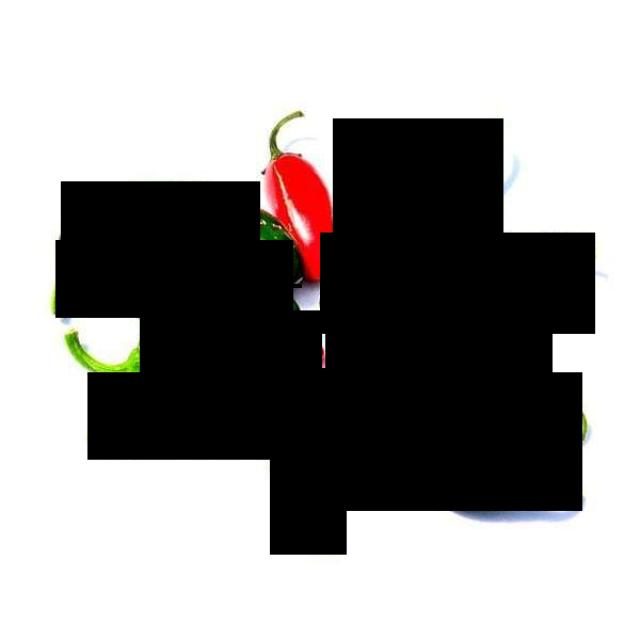Chili_Pepper: (333, 372, 582, 511), (320, 233, 595, 334), (335, 118, 503, 281), (61, 181, 302, 288), (55, 240, 293, 318), (325, 331, 553, 412), (87, 372, 295, 460), (270, 368, 347, 555), (140, 310, 322, 384), (260, 153, 338, 284)
